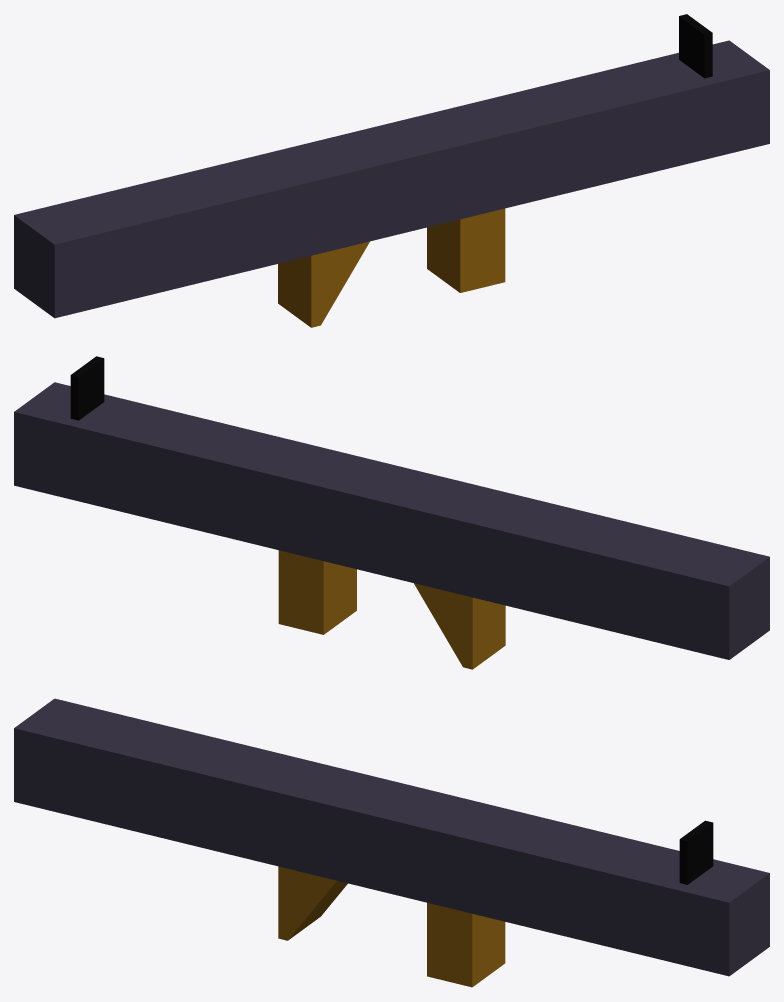
Rendered from bazooka.fbx.
3 renders of one model, top to bottom at view 1: azimuth 30°, elevation 25°; view 2: azimuth 150°, elevation 25°; view 3: azimuth 330°, elevation 25°, orthographic.
Visible parts, largest first — view 1: Cube; view 2: Cube; view 3: Cube.
Boxes of the visible parts, x1,y1,x2,y2 form: Cube: (14, 14, 769, 327); Cube: (14, 356, 769, 669); Cube: (14, 698, 769, 987).
Size of the model in its own units: 295 by 76.65 by 28.99.
